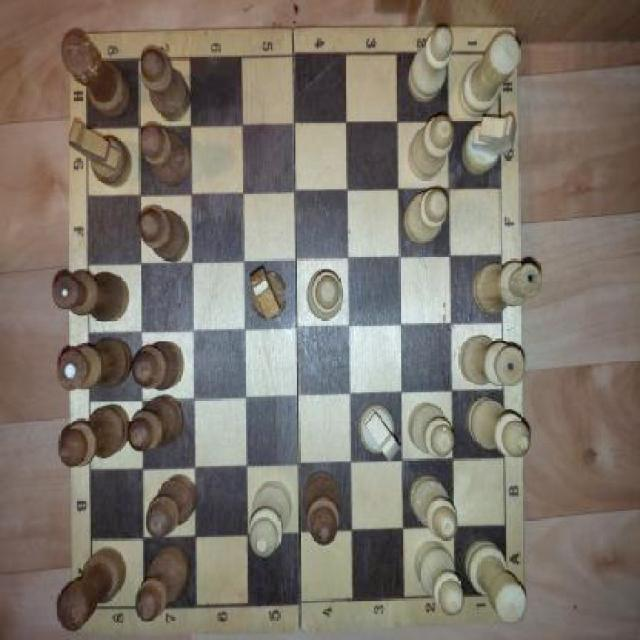chess-table-corners: (67, 32, 113, 97), (72, 574, 120, 631), (482, 556, 524, 621), (474, 27, 516, 87)
